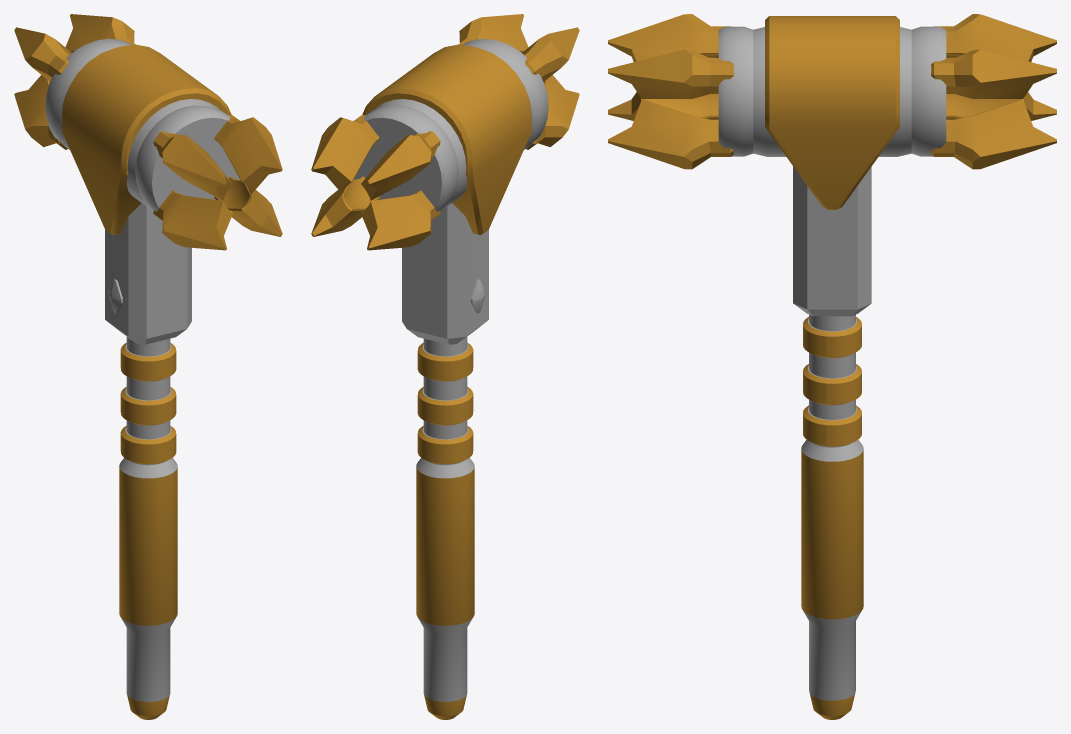
3 views of the same model, side by side, from view 1: azimuth 30°, elevation 25°; view 2: azimuth 150°, elevation 25°; view 3: azimuth 270°, elevation 25° (orthographic). The views are drawn at different scales.
Visible parts, largest first — view 1: Axe; view 2: Axe; view 3: Axe.
Boxes of the visible parts, x1,y1,x2,y2 form: Axe: (14, 14, 282, 719); Axe: (311, 14, 579, 719); Axe: (608, 14, 1056, 719).
Bounding box in the file's own units: 123 × 669 × 393.
